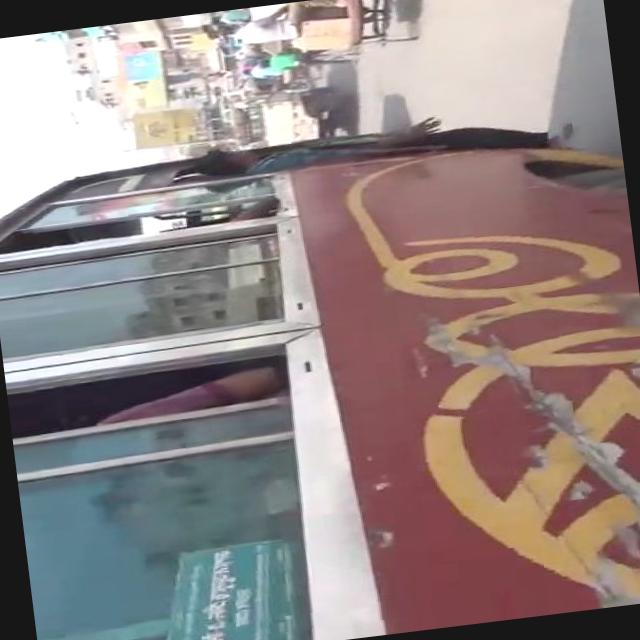bus: (0, 96, 640, 640)
motorcycle: (279, 0, 415, 57)
truck: (220, 79, 352, 147)
